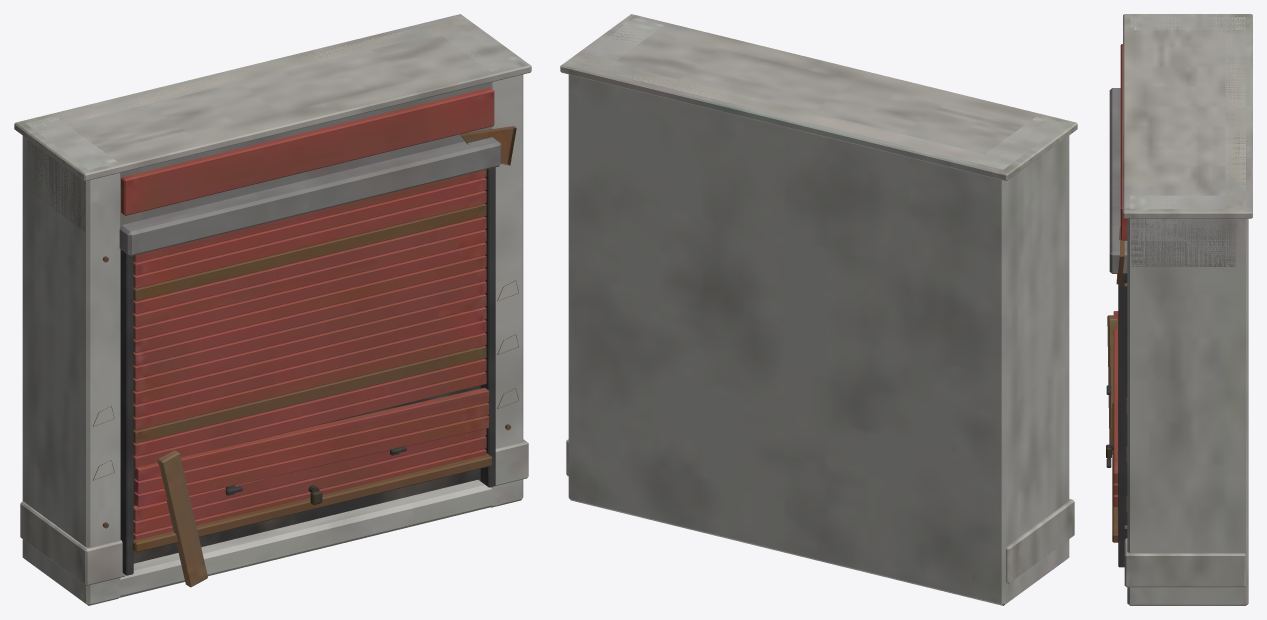
The model's file is R17_shop_front_modules_v4.glb.
3 renders of one model, left to right at view 1: azimuth 30°, elevation 25°; view 2: azimuth 150°, elevation 25°; view 3: azimuth 270°, elevation 25°, orthographic. The views are drawn at different scales.
Visible parts, largest first — view 1: Foundation plinth; view 2: Foundation plinth; view 3: Foundation plinth.
Part boxes in pixels (x1,y1,x2,y2): Foundation plinth: (14, 14, 531, 605); Foundation plinth: (560, 14, 1077, 605); Foundation plinth: (1106, 14, 1252, 605).
Bounding box in the file's own units: 5 × 4.66 × 1.56.
9 materials, 9 textured.
